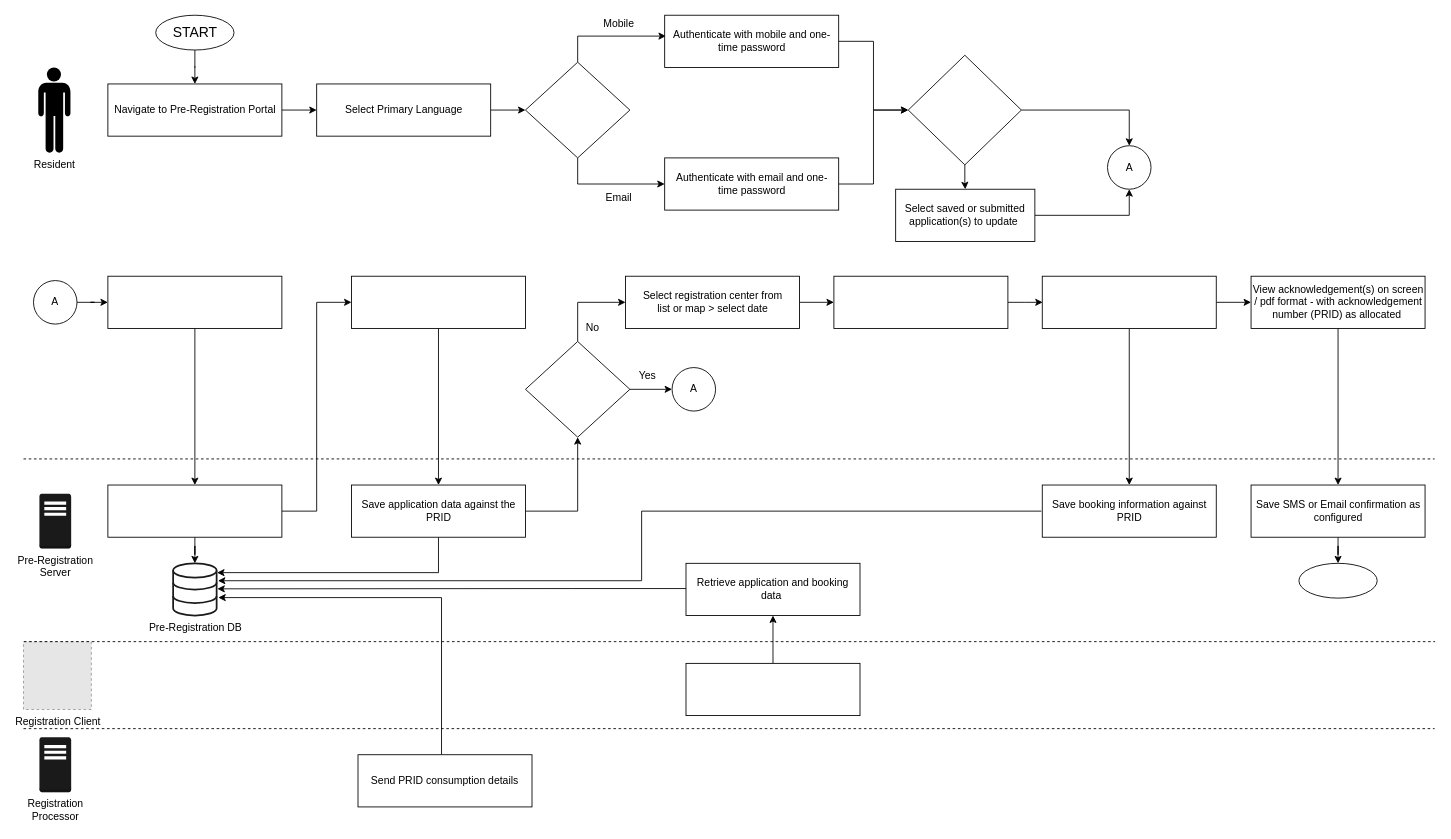
This 1451x839 diagram has some shape labels left out. Grey dashed boxes stand in for pictures. The centre of each missing label's shape, as x and y in pixels:
"Add more applicants?" goes at [577,389].
"Authenticate using email or mobile" goes at [577,109].
"Create new application after providing consent or update existing applications" goes at [964,109].
"Enter or update demographic details as configured in MOSIP ID Schema" goes at [194,301].
"Fetch Pre-Registration details" goes at [772,689].
"Generate/Allocate PRID and save application against PRID" goes at [194,510].
"Select appointment time slot(s) as preferred and book appointment(s)" goes at [1128,301].
"STOP" goes at [1337,580].
"Upload documents as configured in MOSIP ID Schema" goes at [438,301].
"View suggested and available time slot(s) for selected data" goes at [920,301].
